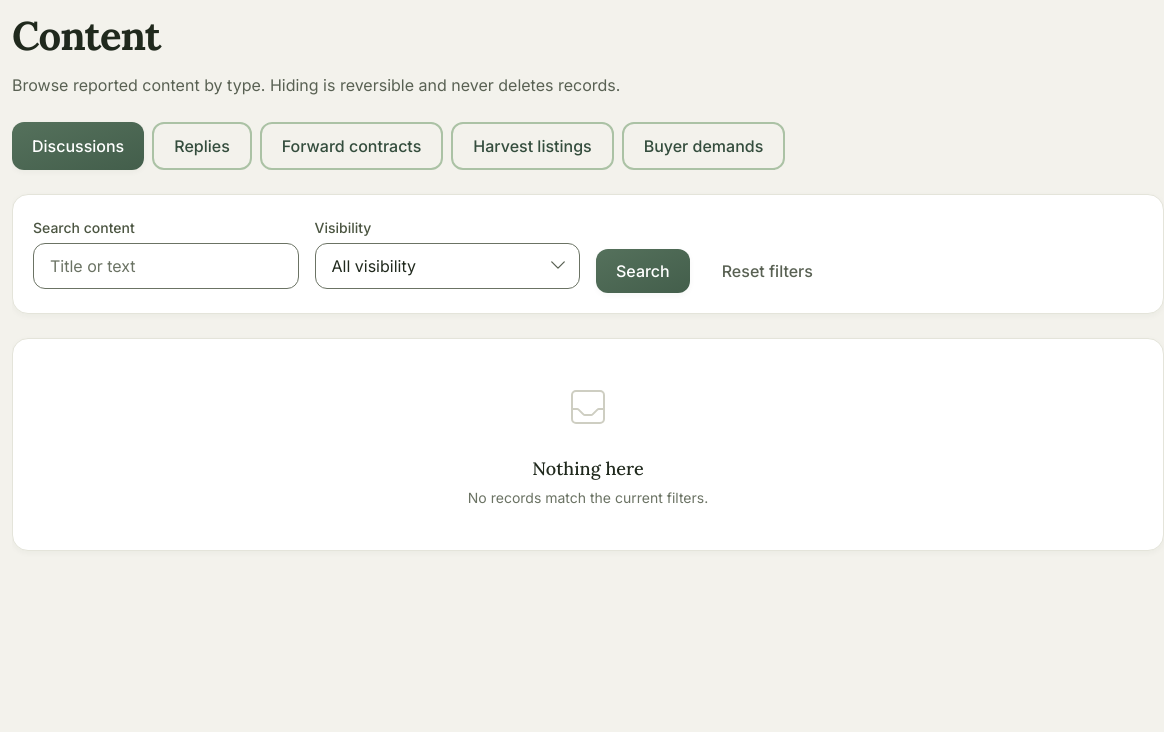
Test: AdminContentPage.vue › browses each of the five content types
The image size is (1164, 732).
Click the button "Forward contracts".
click(352, 146)  # box [260,122,443,170]
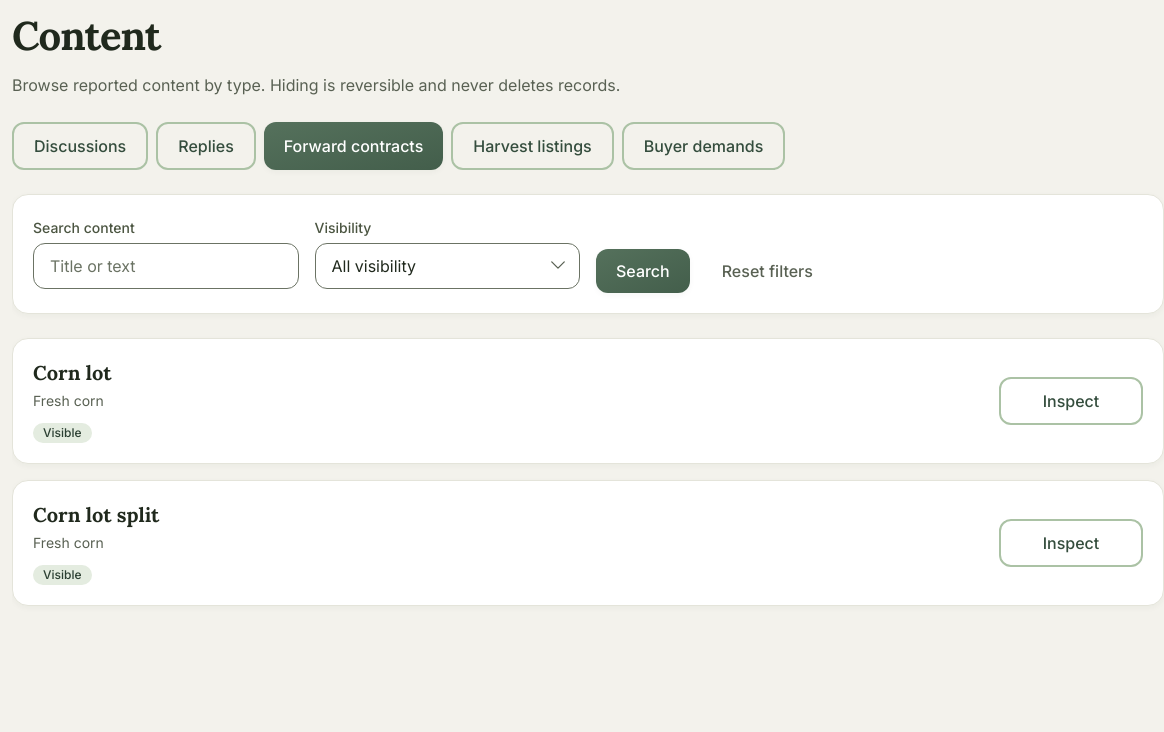
Check: the text "Corn lot" is shown, box [33,359,112,387]
